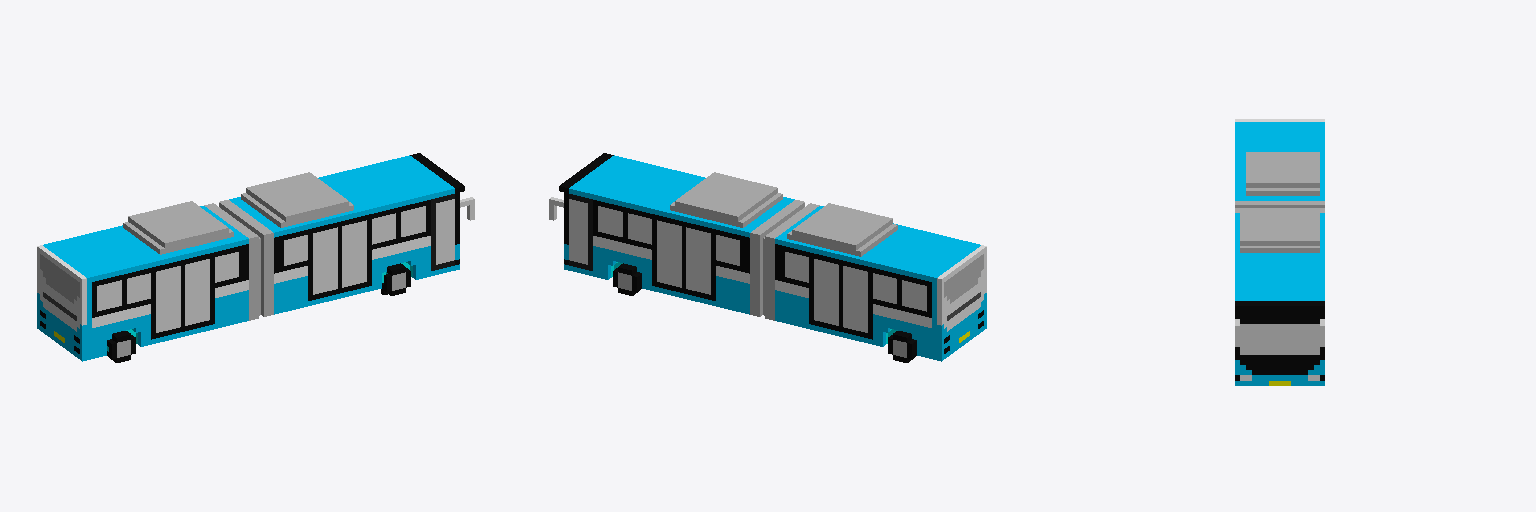
3 renders of one model, left to right at view 1: azimuth 30°, elevation 25°; view 2: azimuth 150°, elevation 25°; view 3: azimuth 270°, elevation 25°, orthographic.
Parts seen in each view (by area): view 1: object 1; view 2: object 1; view 3: object 1.
Part boxes in pixels (bbox=[...]): object 1: bbox=[37, 153, 474, 362]; object 1: bbox=[549, 153, 986, 362]; object 1: bbox=[1235, 119, 1324, 385].
Size of the model in its own units: 8 by 2 by 1.6.
Materials: 1 (1 with a texture image).